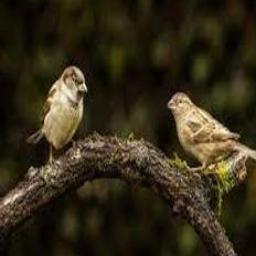Sparrow: (168, 89, 256, 169), (26, 65, 88, 166)
